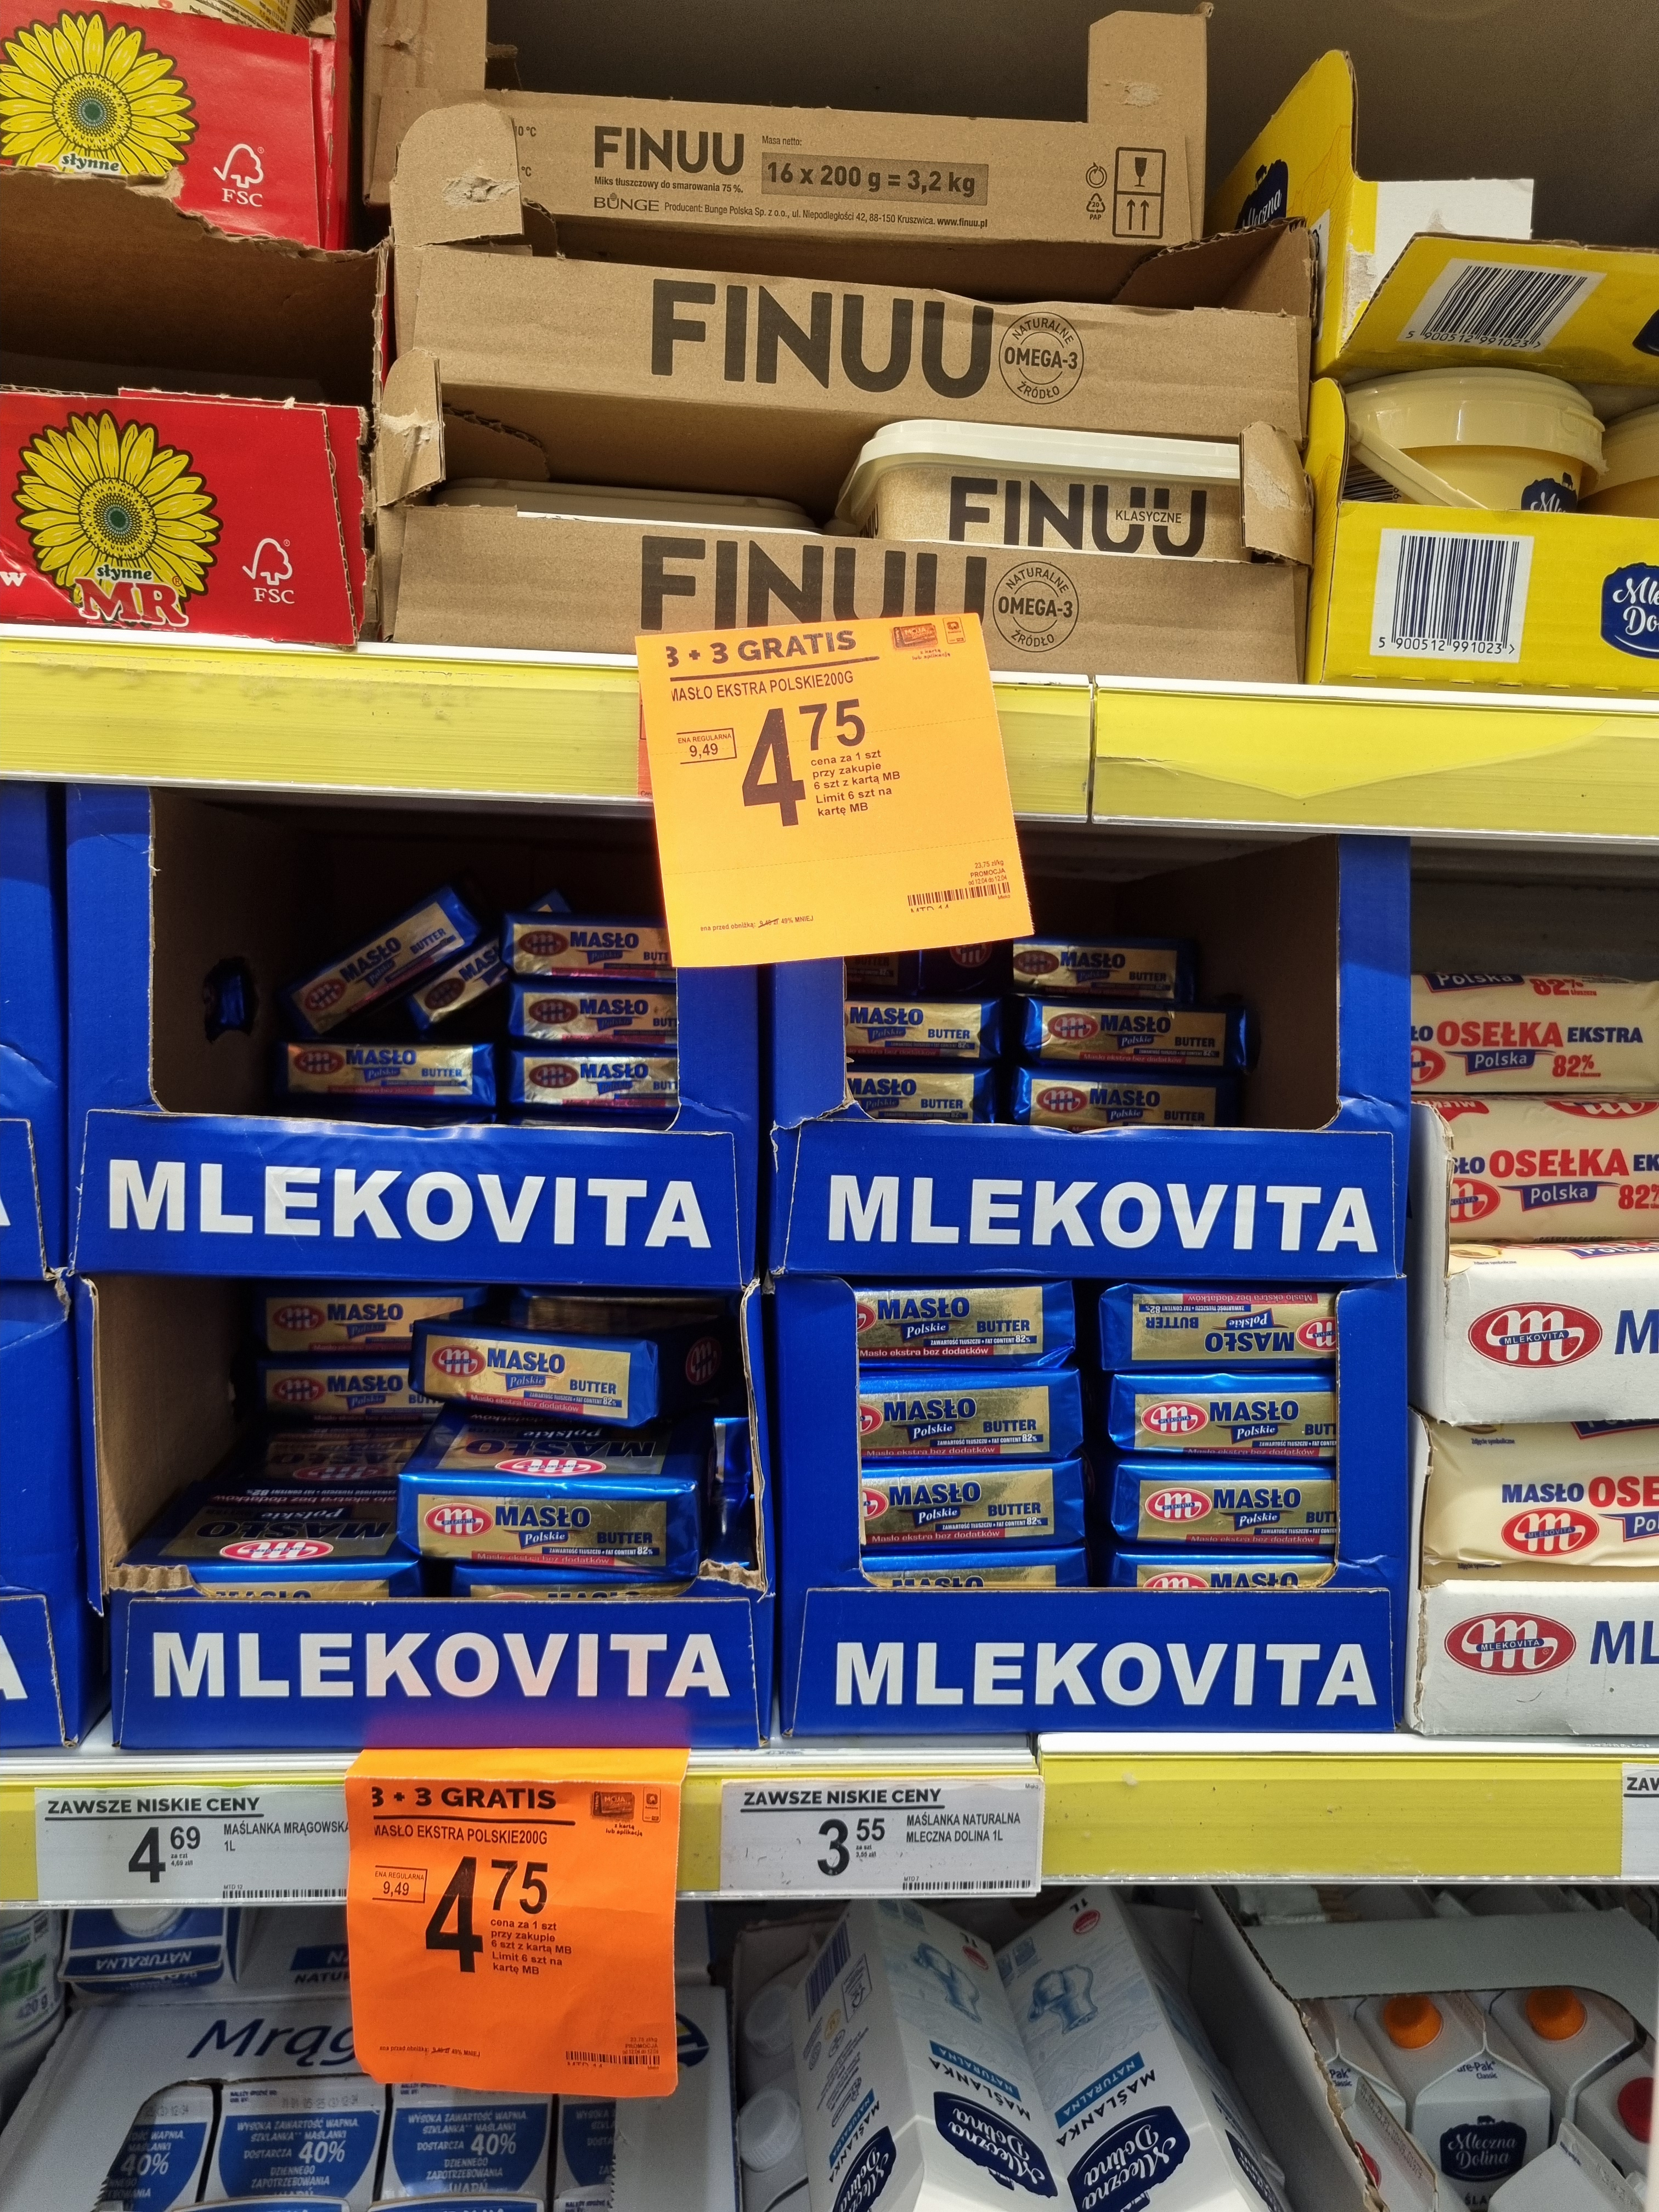Butter: (401, 1426, 702, 1583), (413, 1315, 660, 1440), (167, 1498, 416, 1620), (279, 892, 474, 1029), (824, 1284, 1072, 1392), (1096, 1277, 1358, 1374), (817, 1383, 1094, 1468), (1105, 1465, 1349, 1561), (1108, 1374, 1352, 1465), (1019, 993, 1277, 1078), (246, 1353, 460, 1440), (847, 1470, 1108, 1540), (814, 986, 1006, 1071), (279, 1031, 497, 1106), (842, 1540, 1091, 1602), (249, 1291, 474, 1355), (999, 942, 1201, 1005), (512, 986, 699, 1052), (518, 916, 688, 988), (1119, 1548, 1358, 1599), (812, 1068, 1000, 1130), (521, 1049, 694, 1109)
